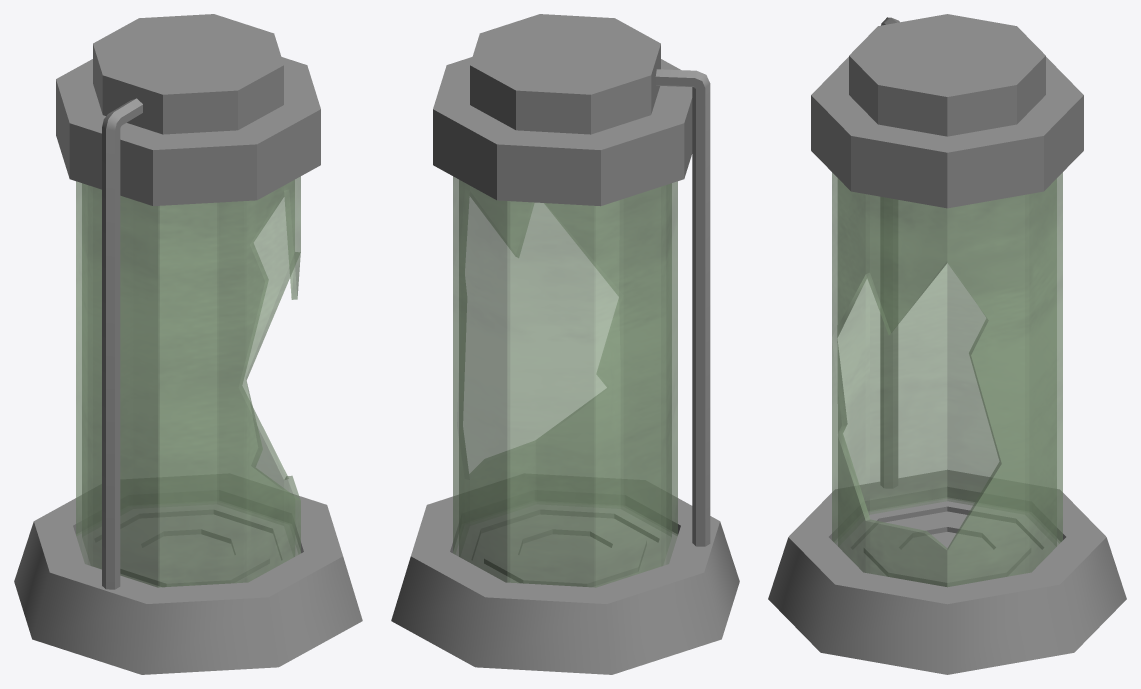
File: Plant_obj1.fbx
3 renders of one model, left to right at view 1: azimuth 30°, elevation 25°; view 2: azimuth 150°, elevation 25°; view 3: azimuth 270°, elevation 25°, orthographic.
Visible parts, largest first — view 1: Plant_Obj1; view 2: Plant_Obj1; view 3: Plant_Obj1.
Boxes of the visible parts, x1,y1,x2,y2 form: Plant_Obj1: (14,14,362,674); Plant_Obj1: (391,14,739,674); Plant_Obj1: (768,14,1126,674).
Bounding box in the file's own units: 77.87 × 130 × 77.87.
Materials: 2 (1 with a texture image).
